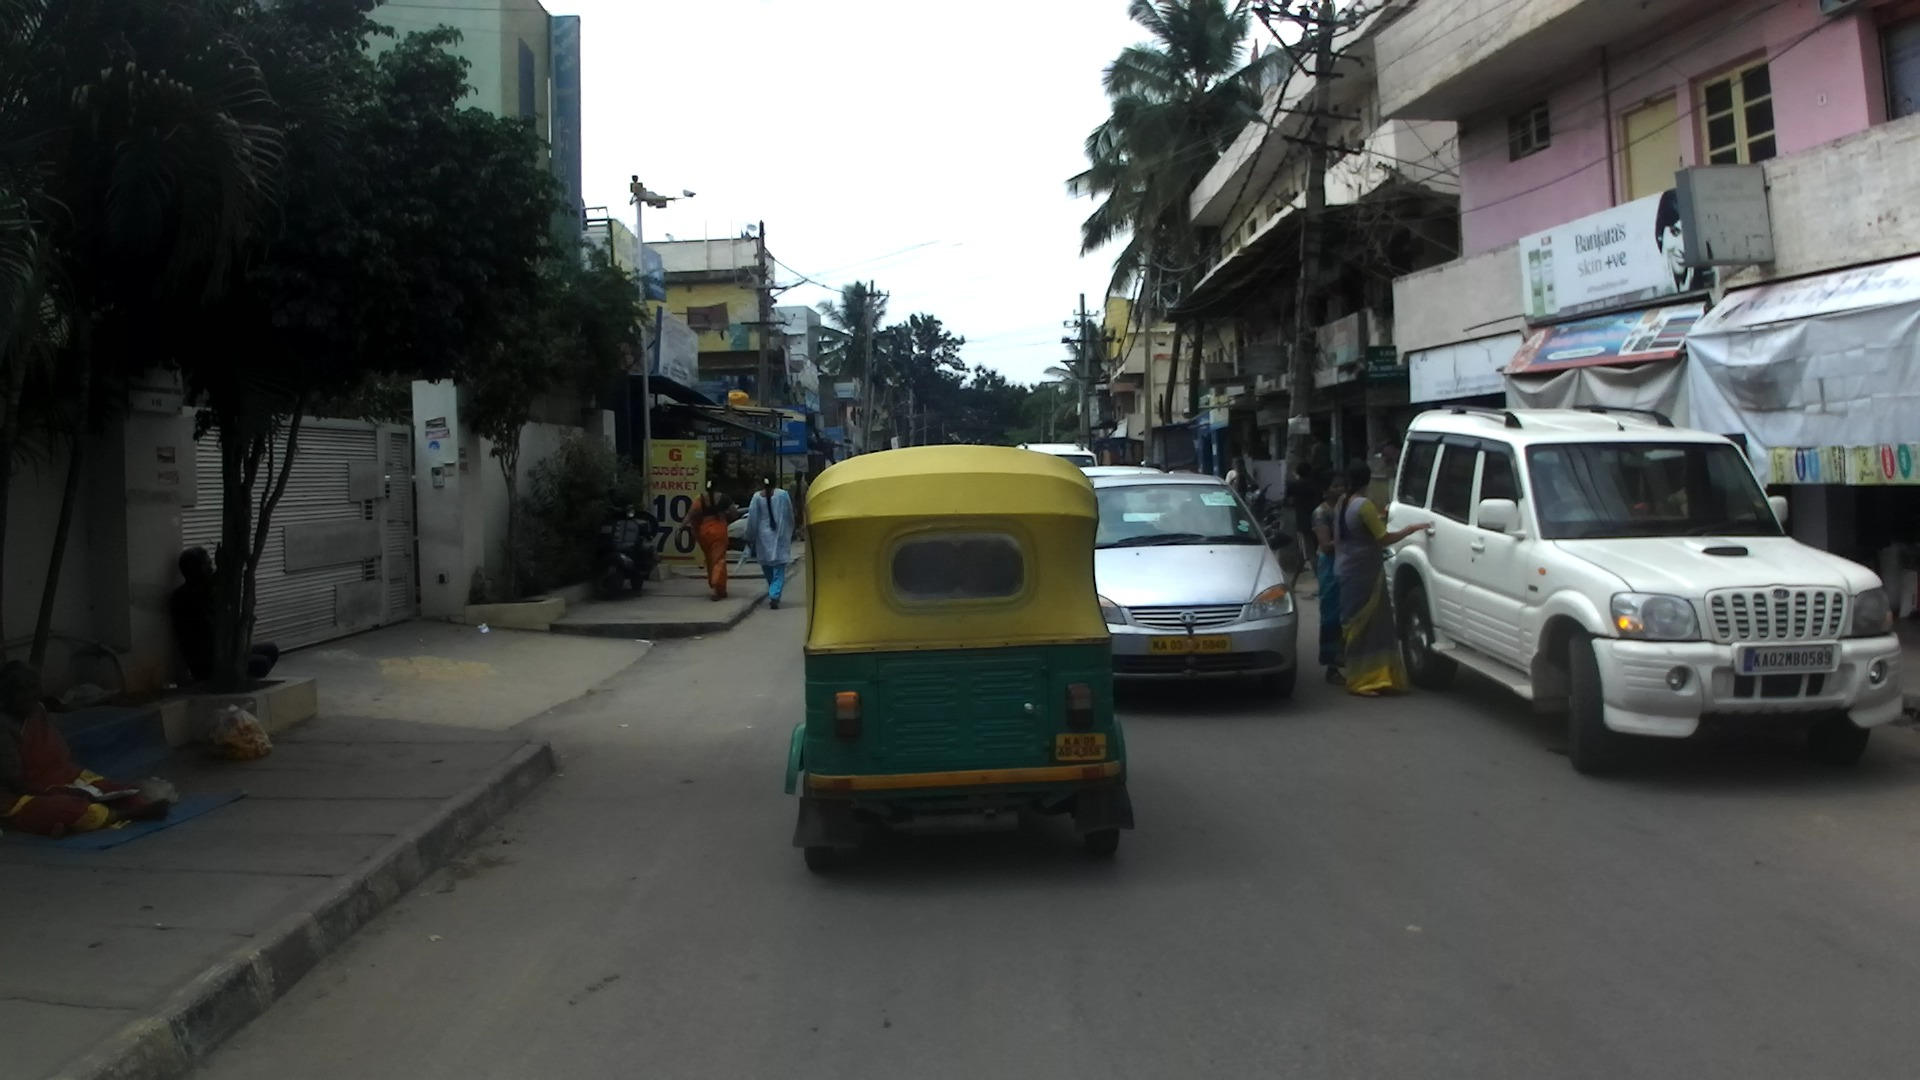autorickshaw: (783, 443, 1138, 877)
car: (1378, 407, 1906, 775), (1076, 474, 1303, 705), (1015, 443, 1099, 477), (722, 513, 789, 549), (1078, 466, 1165, 481)
motorcycle: (593, 503, 661, 600), (1242, 482, 1285, 549)
person: (2, 654, 170, 837), (1333, 456, 1435, 697), (166, 545, 280, 688), (1315, 473, 1380, 689), (677, 476, 742, 603), (744, 469, 795, 609), (1284, 461, 1324, 577), (1382, 430, 1407, 515), (786, 470, 808, 543), (1309, 428, 1330, 499), (1225, 459, 1258, 494), (1376, 416, 1402, 447)
